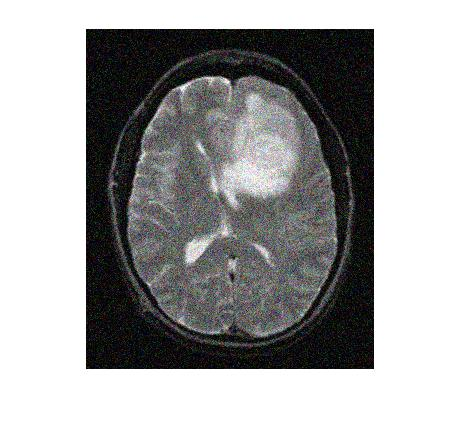Brain_Cancer: (235, 97, 302, 178)
